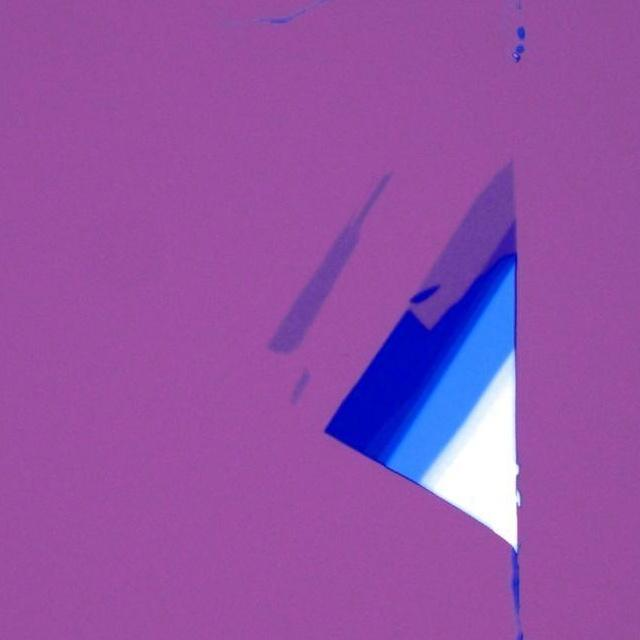monolayer-eWW4: (264, 170, 392, 357), (410, 154, 510, 332)
